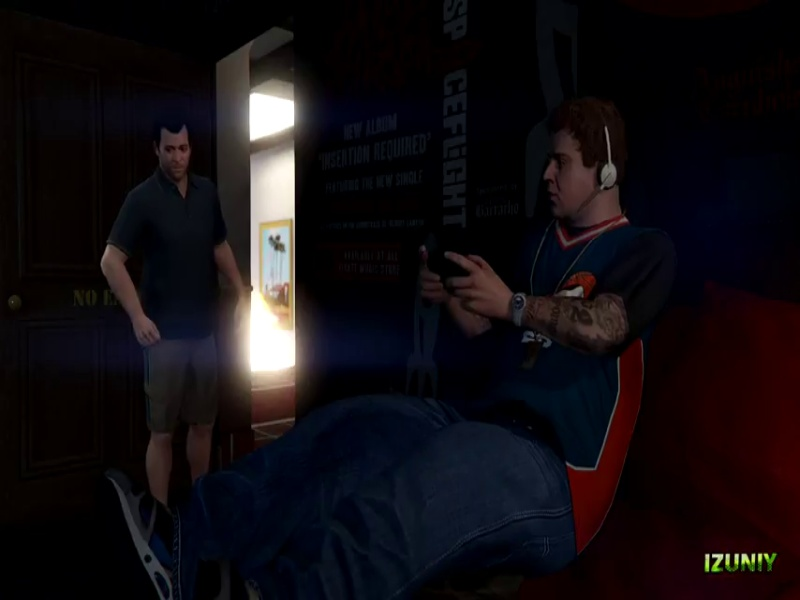human: (105, 122, 234, 508)
